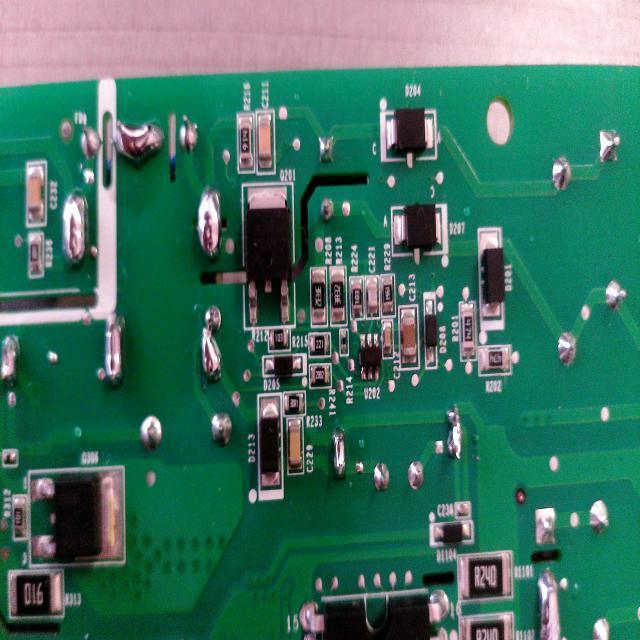Soldering shorted: (110, 112, 168, 168), (193, 180, 224, 268), (534, 559, 567, 640), (61, 186, 87, 270), (198, 302, 224, 385), (102, 309, 126, 397), (444, 397, 466, 469), (0, 331, 26, 391), (330, 424, 350, 484)
